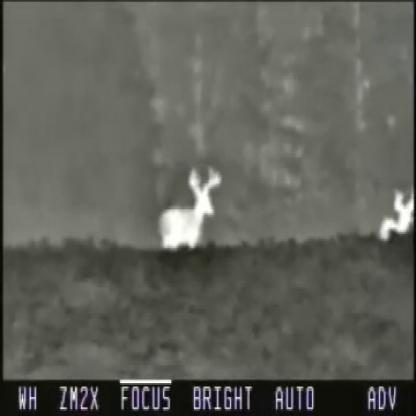rehkitze: (160, 167, 221, 250), (379, 188, 412, 242)
